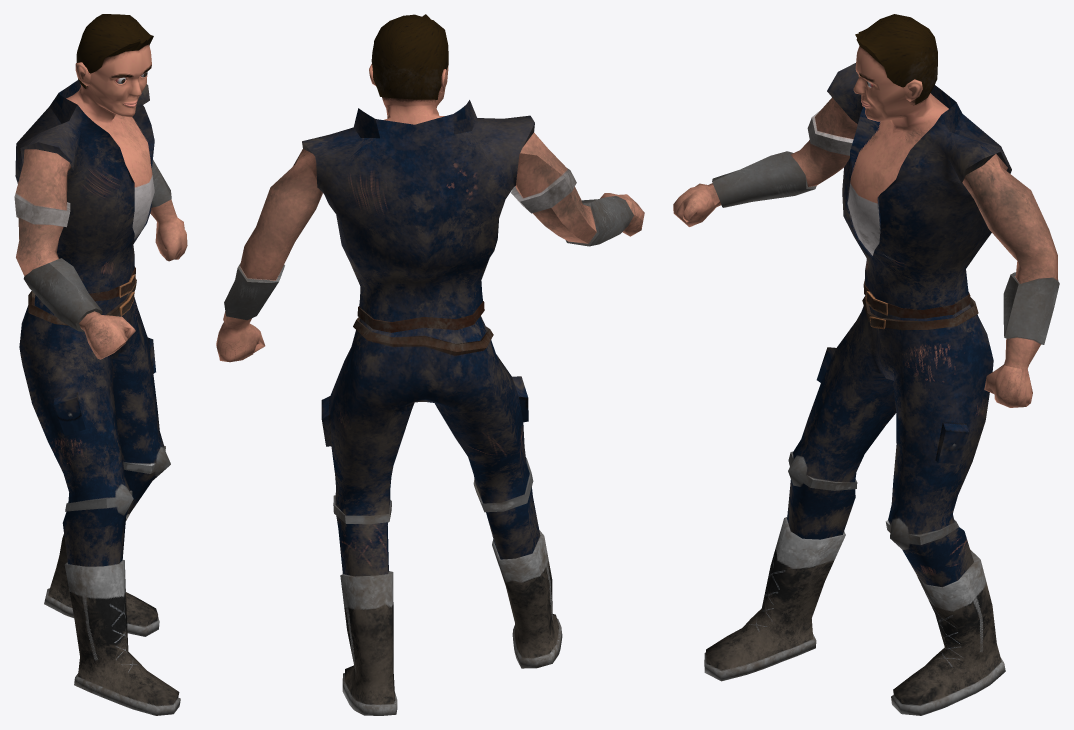
The model's file is Anim_abrir_puerta_ok_jugador.0020.obj.
3 views of the same model, side by side, from view 1: azimuth 30°, elevation 25°; view 2: azimuth 150°, elevation 25°; view 3: azimuth 270°, elevation 25° (orthographic). The views are drawn at different scales.
Visible parts, largest first — view 1: polySurface1; view 2: polySurface1; view 3: polySurface1.
Part boxes in pixels (x1=…): polySurface1: x1=14, y1=14, x2=187, y2=715; polySurface1: x1=216, y1=14, x2=644, y2=715; polySurface1: x1=673, y1=14, x2=1059, y2=715.
Size of the model in its own units: 4.09 by 9.45 by 4.93.
